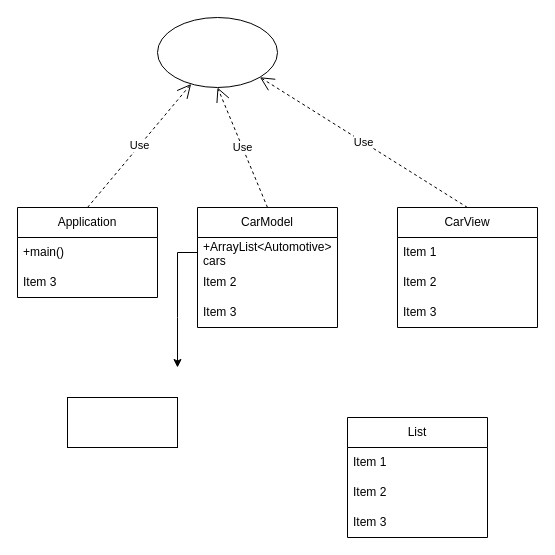
This 555x555 diagram has some shape labels left out. The centre of each missing label's shape, as x and y in pixels:
Swing: (217,52)
«interface» Observable: (122,422)
